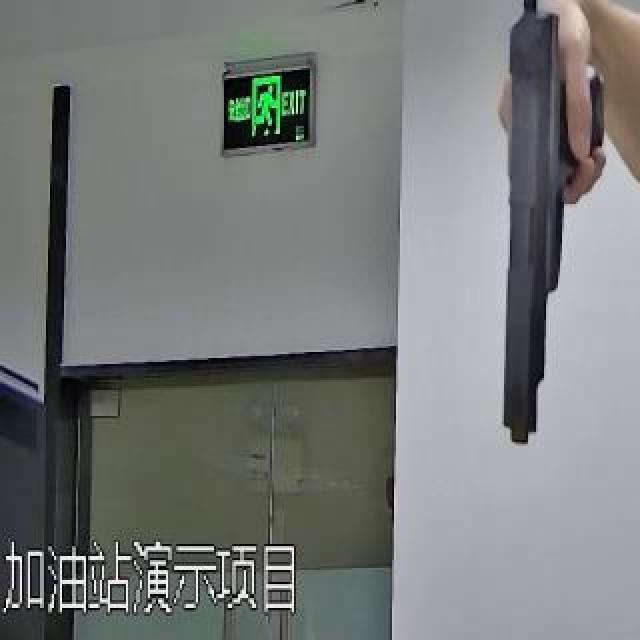Guns: (480, 0, 608, 474)
